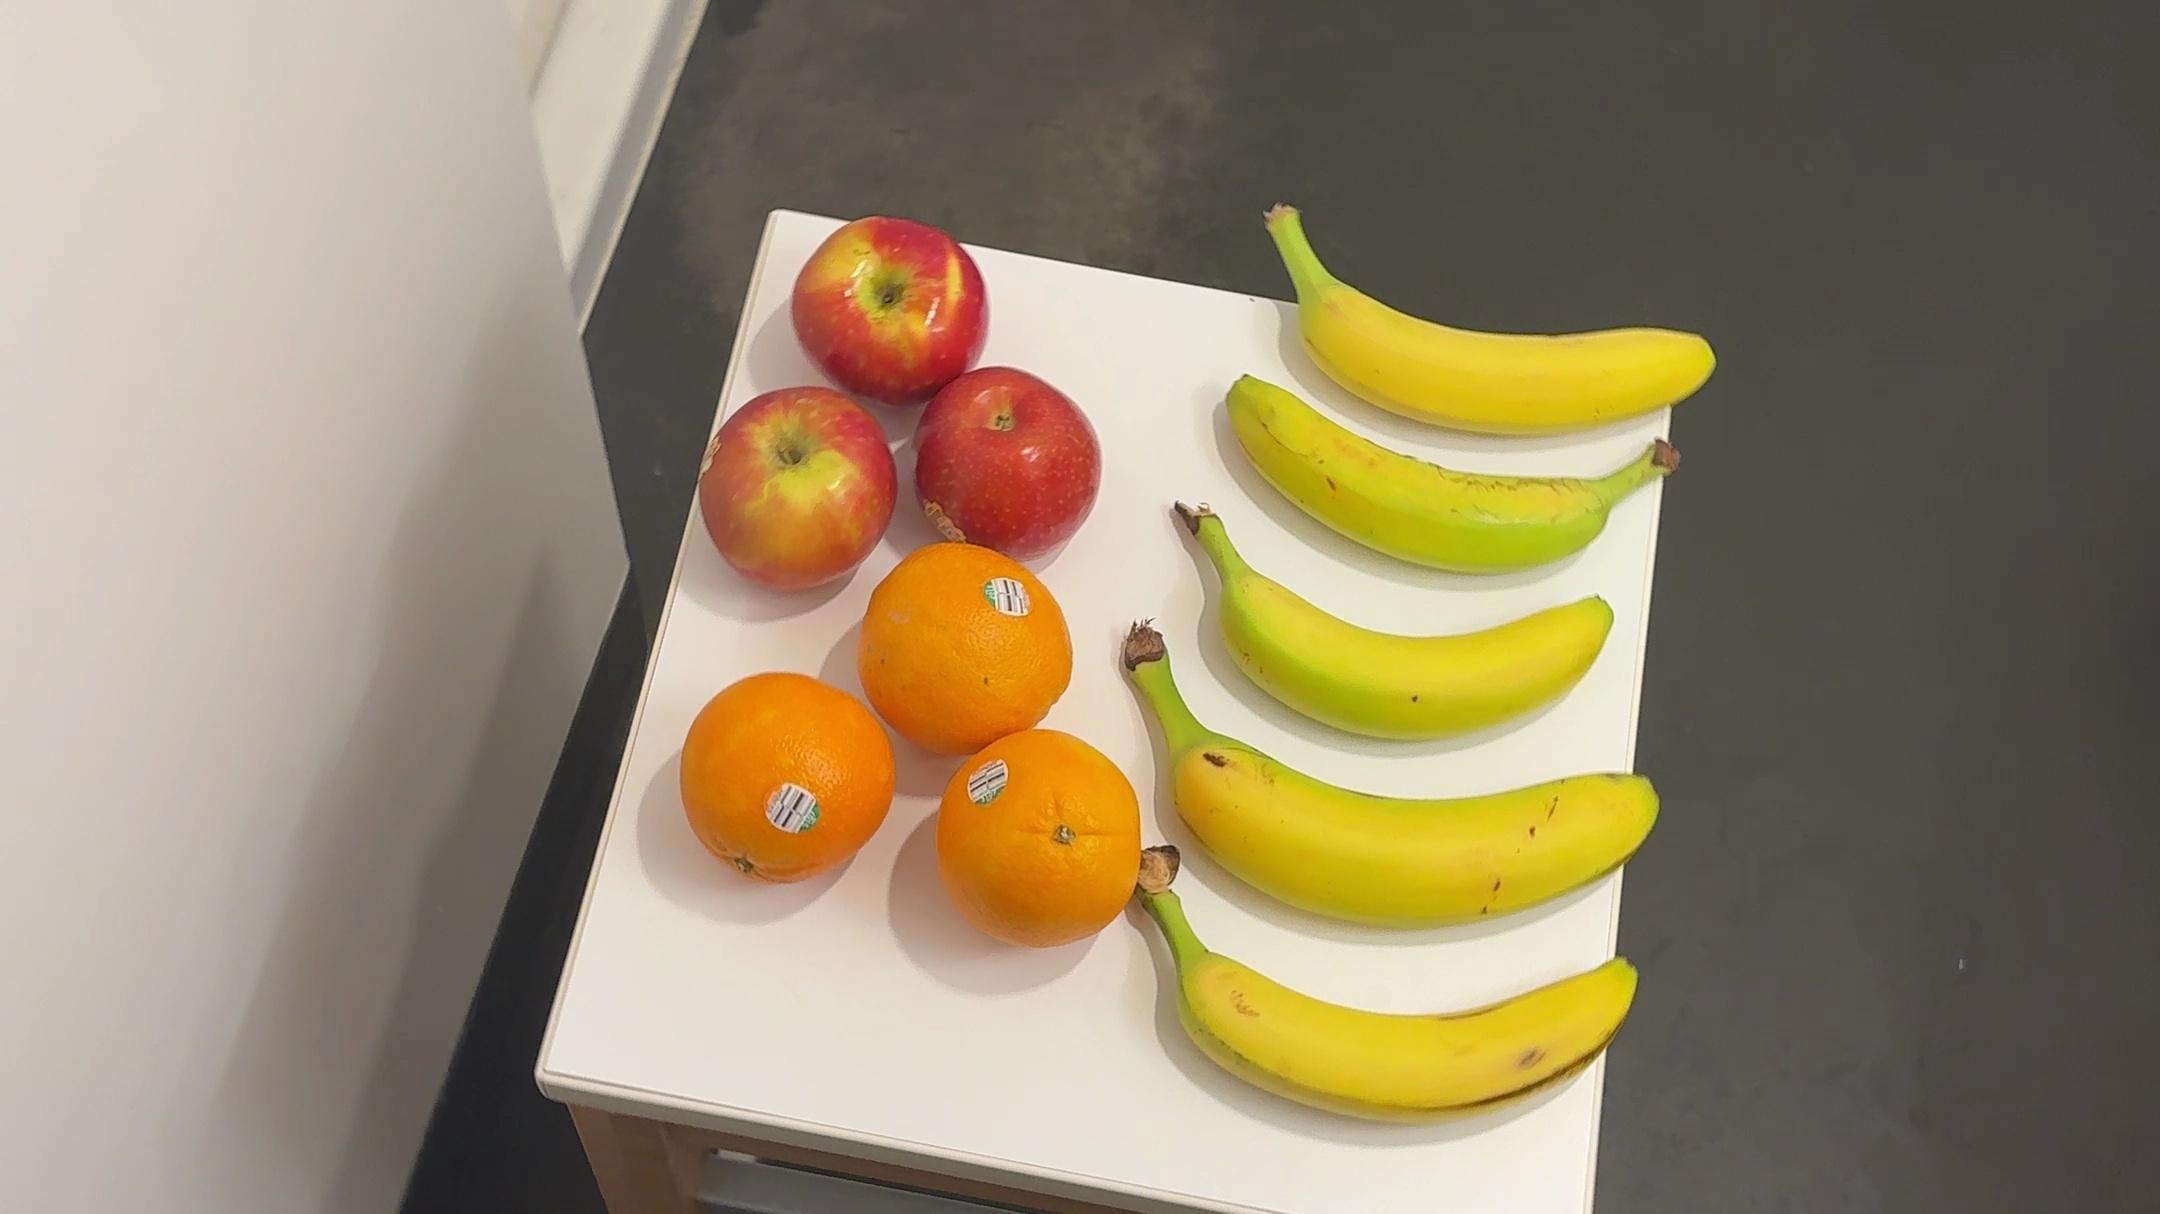apple: (789, 200, 994, 408), (693, 383, 884, 598), (911, 373, 1114, 574)
banana: (1110, 608, 1654, 941), (1125, 833, 1647, 1132), (1170, 487, 1624, 755), (1267, 203, 1705, 462), (1219, 373, 1688, 586)
orange: (682, 659, 898, 893), (933, 726, 1133, 963), (857, 539, 1073, 758)
